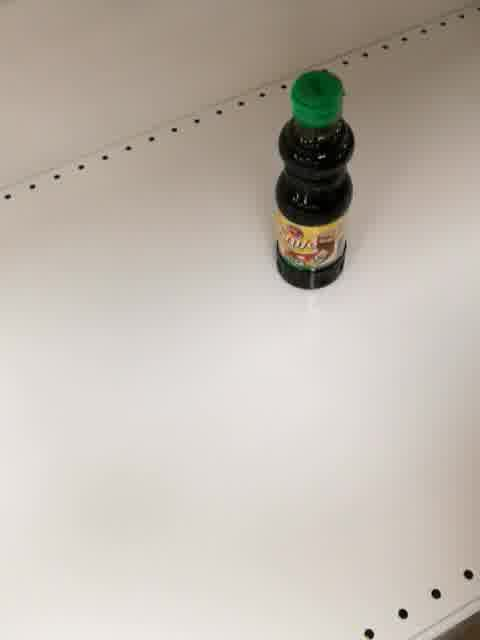cookingoil: (269, 67, 359, 293)
